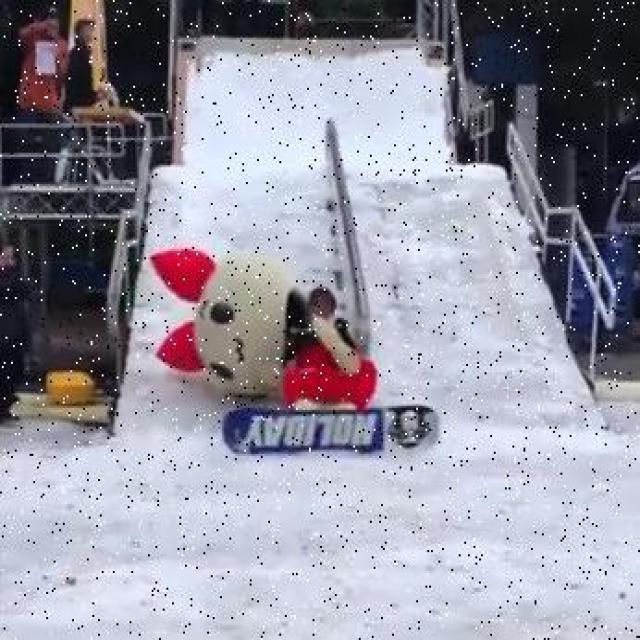fall: (278, 280, 367, 439)
